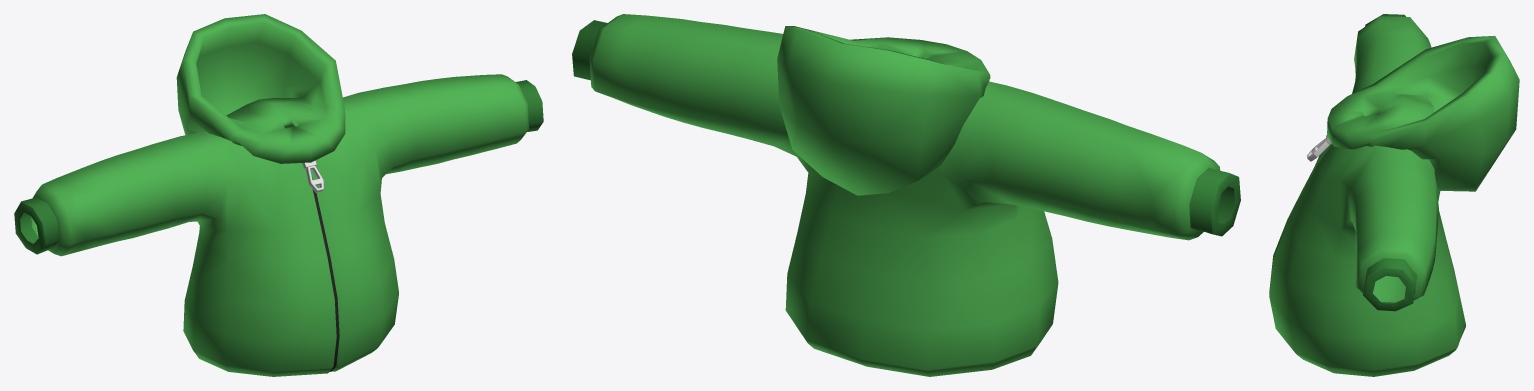
The model's file is Outerwear_Green_013.glb.
3 views of the same model, side by side, from view 1: azimuth 30°, elevation 25°; view 2: azimuth 150°, elevation 25°; view 3: azimuth 270°, elevation 25° (orthographic). The views are drawn at different scales.
Parts seen in each view (by area): view 1: Outerwear_Green_013; view 2: Outerwear_Green_013; view 3: Outerwear_Green_013.
Part boxes in pixels (x1,y1,x2,y2): Outerwear_Green_013: [14, 14, 543, 376]; Outerwear_Green_013: [572, 14, 1240, 376]; Outerwear_Green_013: [1269, 14, 1519, 376].
Bounding box in the file's own units: 1.29 × 0.6763 × 0.5383.
1 material, 1 textured.
